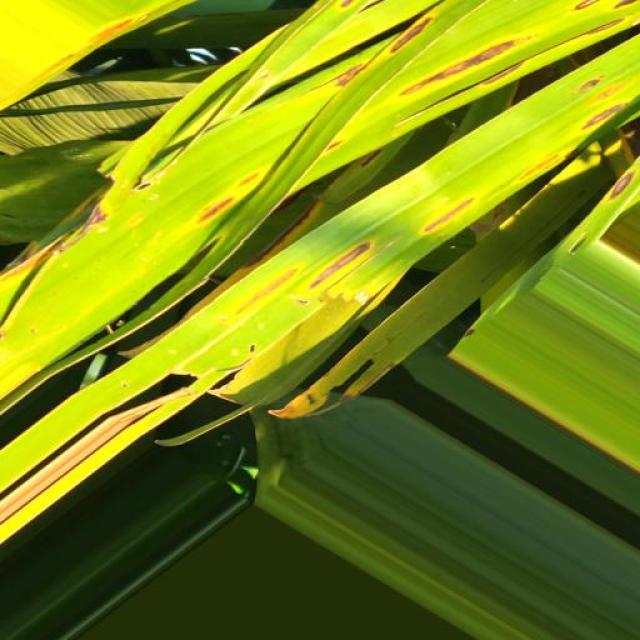Early_rust: (0, 29, 640, 508)
